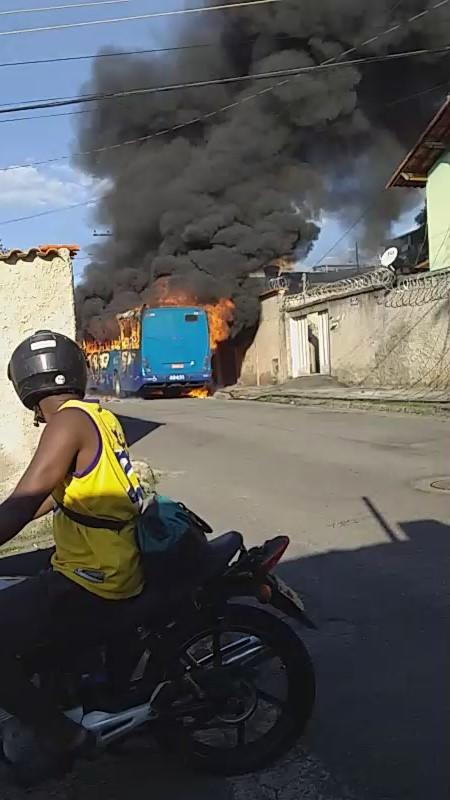fire: (214, 296, 240, 346), (120, 306, 148, 340)
smoke: (134, 94, 296, 218)
